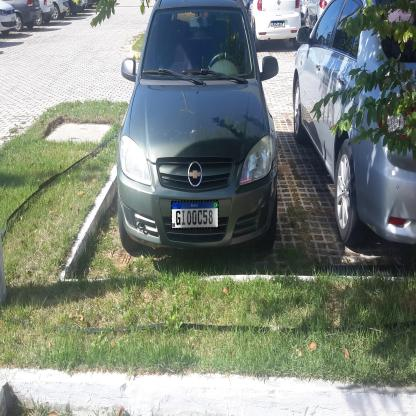PlacaM: (171, 200, 219, 230), (271, 21, 285, 27)
